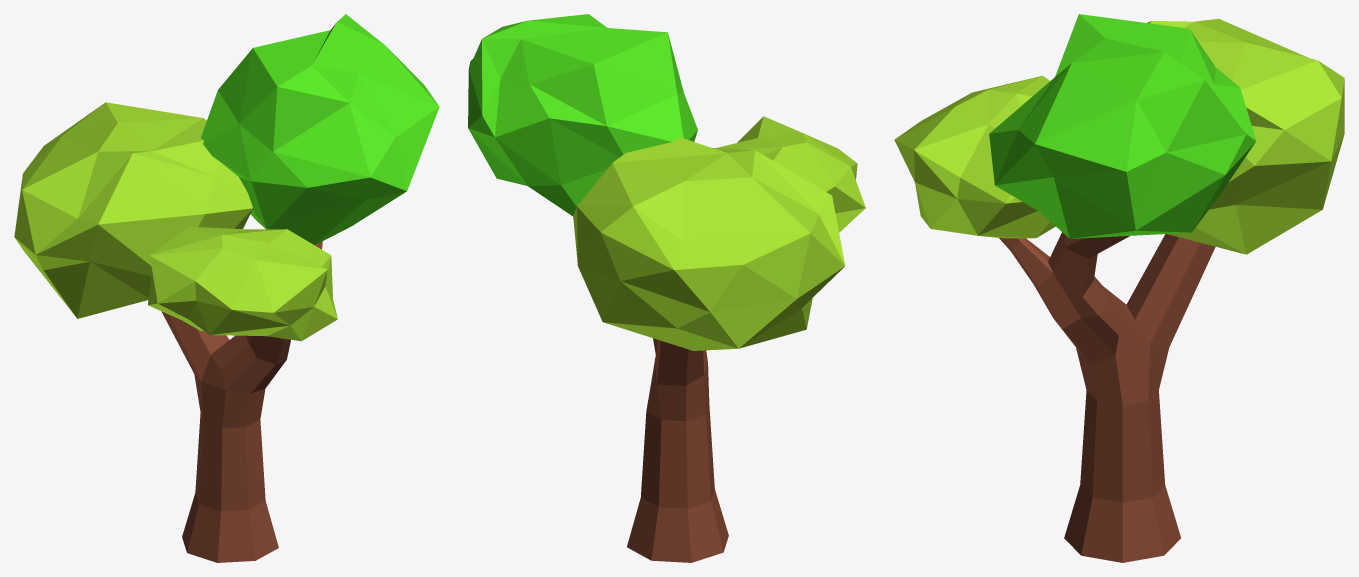
Rendered from Oak_02.fbx.
3 views of the same model, side by side, from view 1: azimuth 30°, elevation 25°; view 2: azimuth 150°, elevation 25°; view 3: azimuth 270°, elevation 25° (orthographic). The views are drawn at different scales.
Parts seen in each view (by area): view 1: tree.002; view 2: tree.002; view 3: tree.002.
Part boxes in pixels (bbox=[...]): tree.002: bbox=[14, 14, 439, 562]; tree.002: bbox=[468, 14, 865, 562]; tree.002: bbox=[894, 14, 1344, 562].
Bounding box in the file's own units: 387 × 473 × 347.
